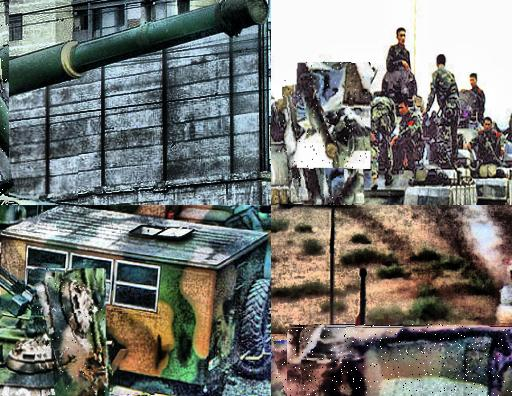tanks: (289, 327, 512, 396), (35, 270, 107, 394), (276, 81, 345, 204), (298, 64, 368, 169), (272, 336, 377, 396), (362, 158, 478, 206), (459, 120, 512, 206)
